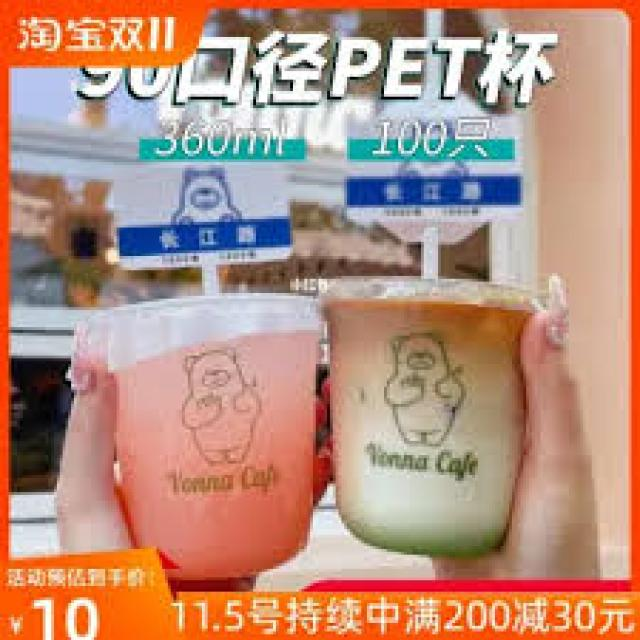bottle: (58, 296, 315, 589), (325, 281, 531, 554)
